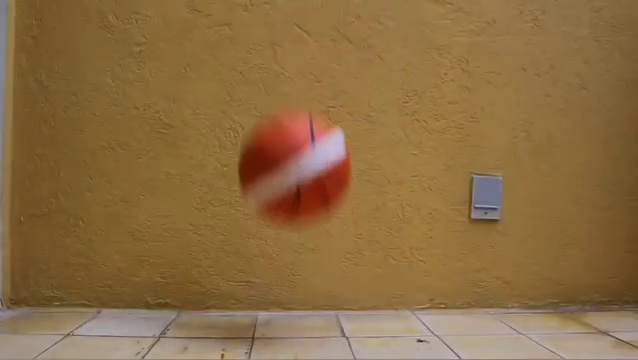ball: (239, 108, 357, 226)
